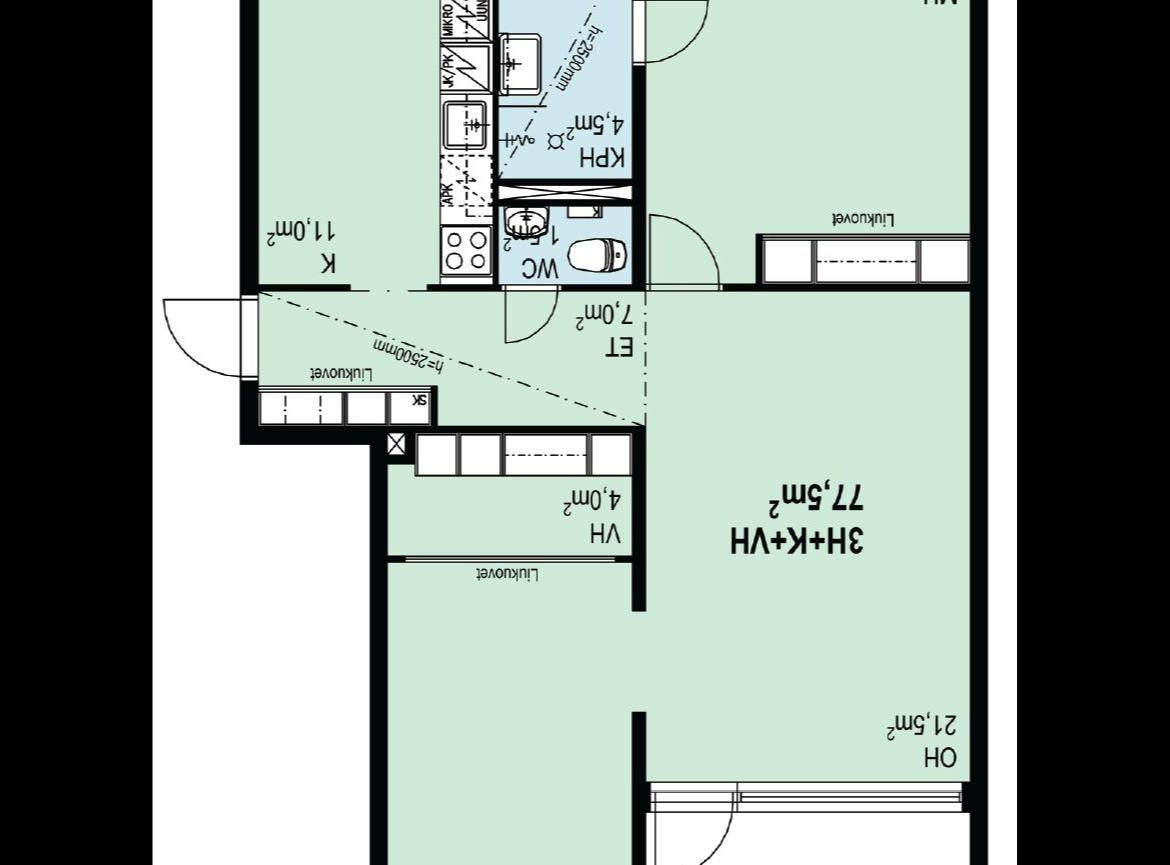bathroom: (504, 203, 630, 284)
door: (160, 296, 262, 384), (643, 770, 737, 865), (644, 206, 726, 299), (627, 0, 715, 69), (496, 274, 566, 350)
perimeter: (236, 0, 987, 865)
window: (732, 774, 971, 814)
